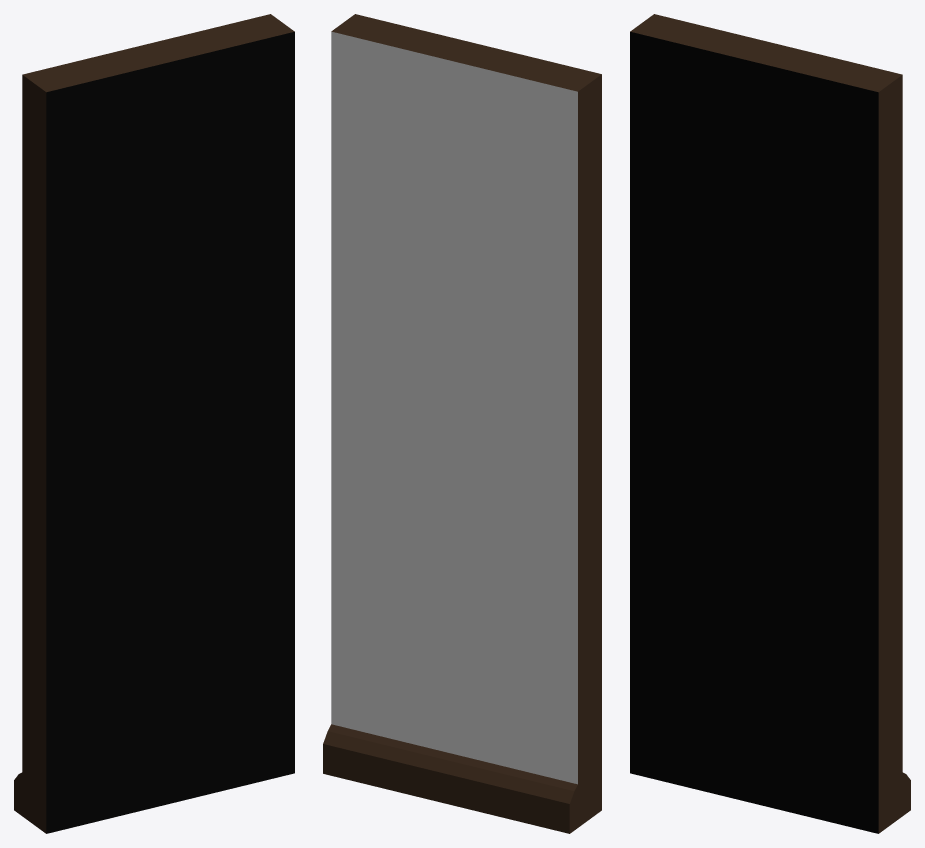
Rendered from Wall_HidenDoor.fbx.
3 renders of one model, left to right at view 1: azimuth 30°, elevation 25°; view 2: azimuth 150°, elevation 25°; view 3: azimuth 330°, elevation 25°, orthographic.
Parts seen in each view (by area): view 1: Cube.175; view 2: Cube.175; view 3: Cube.175.
Boxes of the visible parts, x1,y1,x2,y2 form: Cube.175: (14, 14, 294, 833); Cube.175: (323, 14, 601, 833); Cube.175: (630, 14, 910, 833).
Size of the model in its own units: 0.2252 by 1 by 2.85.
